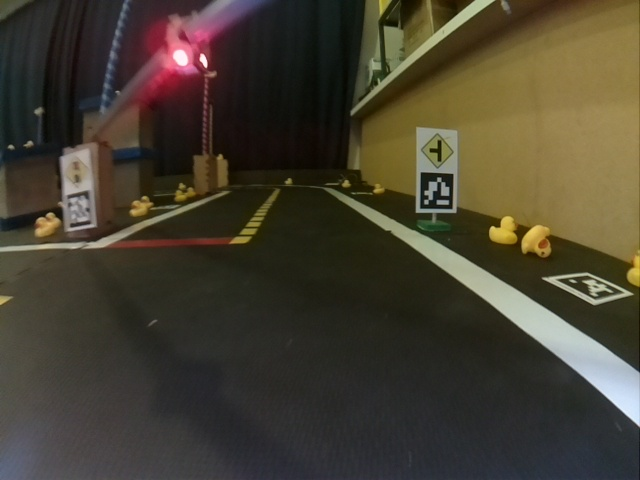Duckie: (522, 225, 551, 256), (489, 217, 517, 245), (627, 253, 639, 284), (35, 219, 53, 237), (131, 200, 143, 216), (140, 196, 153, 208), (373, 183, 384, 192), (175, 191, 185, 200), (187, 187, 196, 197), (342, 180, 350, 187)
Intersection sign: (419, 131, 454, 170)
QR code: (541, 272, 633, 303), (419, 173, 454, 211), (64, 191, 94, 228)
Signal sign: (63, 155, 91, 189)
Traffic light: (165, 13, 211, 76)
